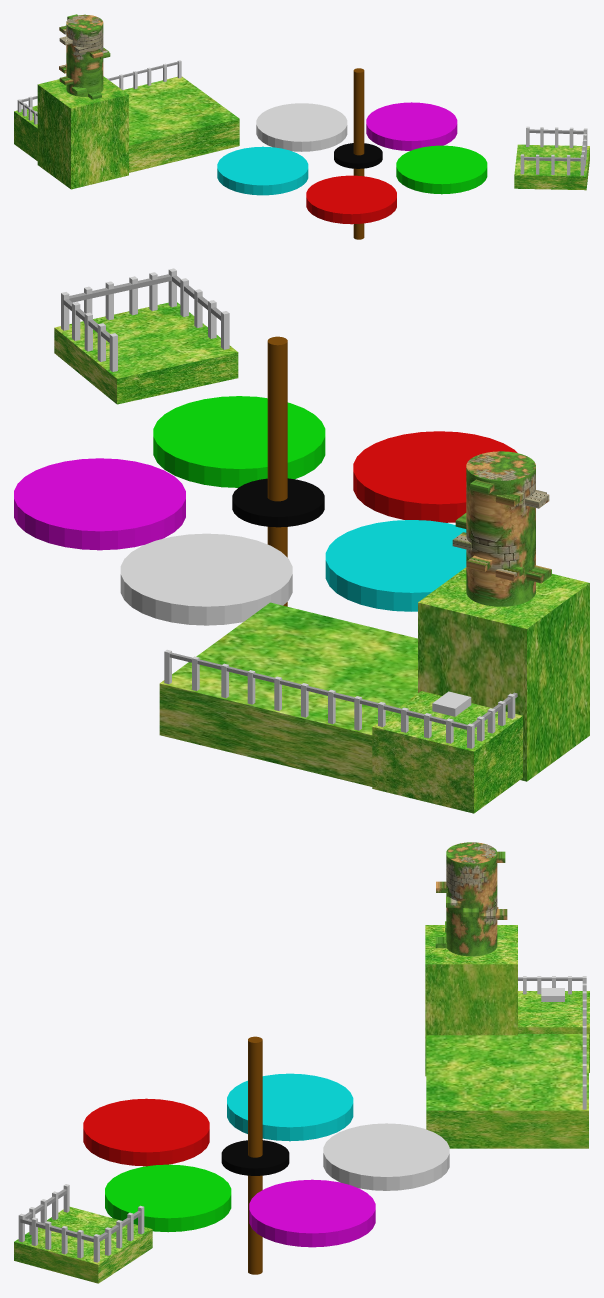
The model's file is Stage_Hit_Test.fbx.
3 renders of one model, top to bottom at view 1: azimuth 30°, elevation 25°; view 2: azimuth 150°, elevation 25°; view 3: azimuth 270°, elevation 25°, orthographic. The views are drawn at different scales.
Visible parts, largest first — view 1: pasted__pasted__pasted__pasted__pasted__pasted__pCube10; view 2: pasted__pasted__pasted__pasted__pasted__pasted__pCube10; view 3: pasted__pasted__pasted__pasted__pasted__pasted__pCube10.
Part boxes in pixels (x1,y1,x2,y2): pasted__pasted__pasted__pasted__pasted__pasted__pCube10: (14,14,589,239); pasted__pasted__pasted__pasted__pasted__pasted__pCube10: (14,268,589,813); pasted__pasted__pasted__pasted__pasted__pasted__pCube10: (14,842,589,1283).
Bounding box in the file's own units: 125 × 61.43 × 112.
Materials: 10 (2 with a texture image).
